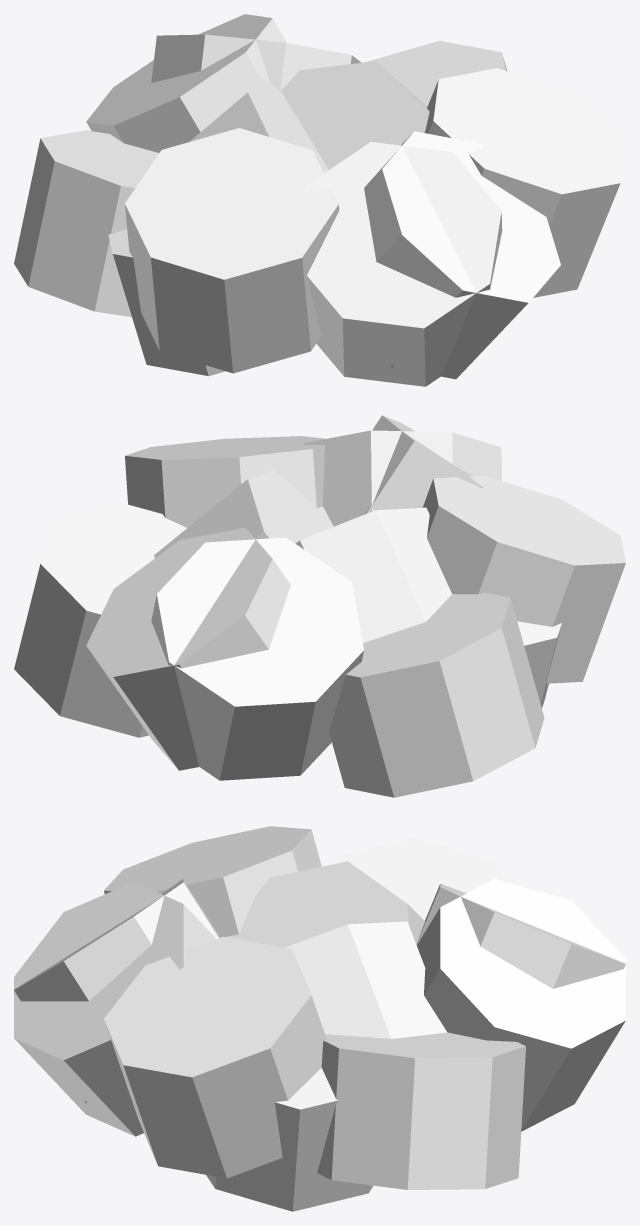
The model's file is marshmellows.gltf.
The picture shows the model from 3 angles, top to bottom: view 1: azimuth 30°, elevation 25°; view 2: azimuth 150°, elevation 25°; view 3: azimuth 270°, elevation 25°; orthographic projection.
Visible parts, largest first — view 1: marshmellow (×11); view 2: marshmellow (×11); view 3: marshmellow (×11).
Part boxes in pixels (x1=…): marshmellow (×11): x1=14, y1=14, x2=625, y2=386; marshmellow (×11): x1=14, y1=415, x2=625, y2=797; marshmellow (×11): x1=14, y1=826, x2=625, y2=1211.
Size of the model in its own units: 0.387 by 0.1638 by 0.3996.
Materials: 1 (1 with a texture image).
